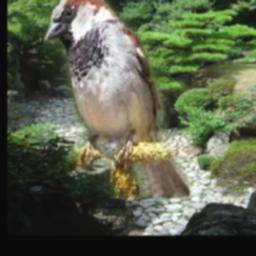Sparrow: (44, 0, 191, 199)
